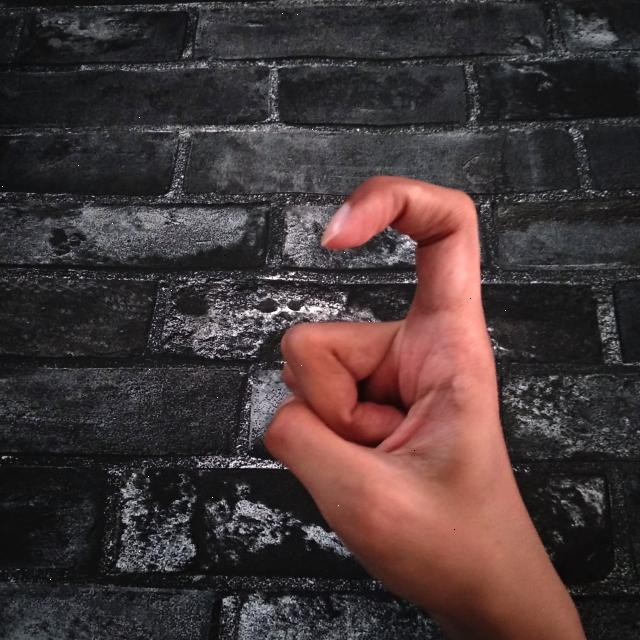X: (250, 167, 588, 640)
